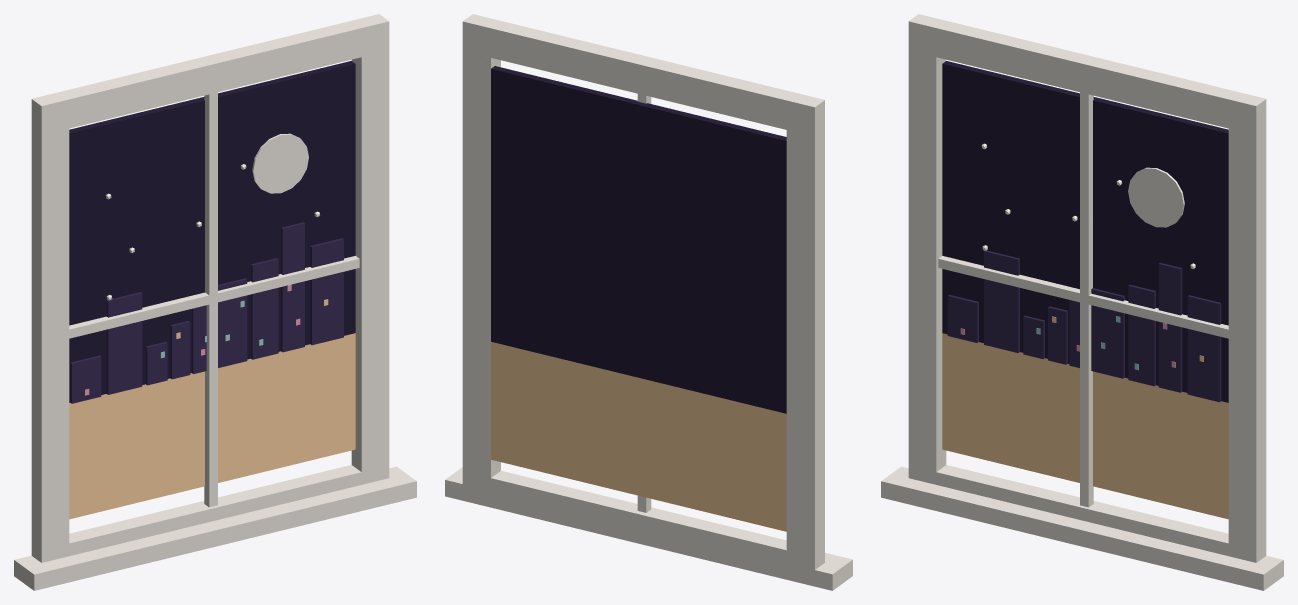
Rendered from deco_finestra_01.glb.
3 renders of one model, left to right at view 1: azimuth 30°, elevation 25°; view 2: azimuth 150°, elevation 25°; view 3: azimuth 330°, elevation 25°, orthographic.
Visible parts, largest first — view 1: deco_finestra_01; view 2: deco_finestra_01; view 3: deco_finestra_01.
Boxes of the visible parts, x1,y1,x2,y2 form: deco_finestra_01: (14,14,416,590); deco_finestra_01: (445,14,852,590); deco_finestra_01: (881,14,1283,590).
Bounding box in the file's own units: 1.1 × 1.3 × 0.1.
